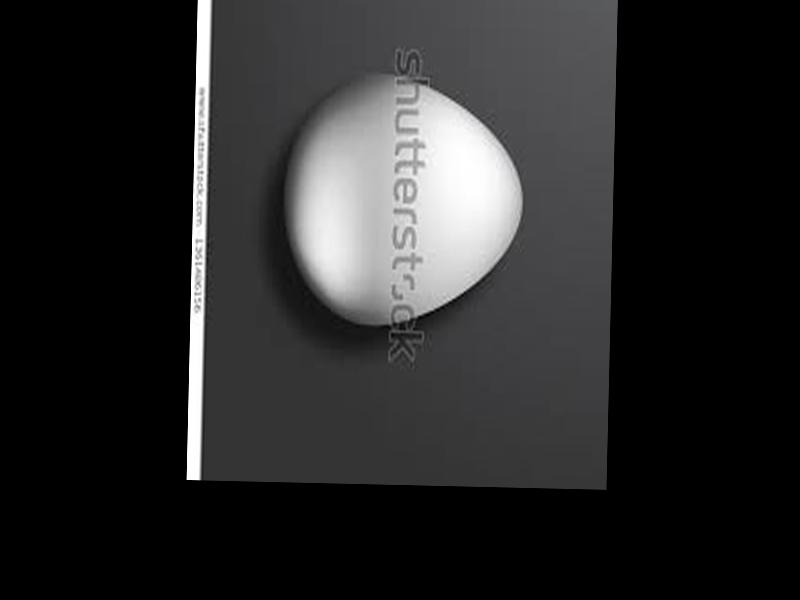Eggs: (283, 72, 527, 328)
